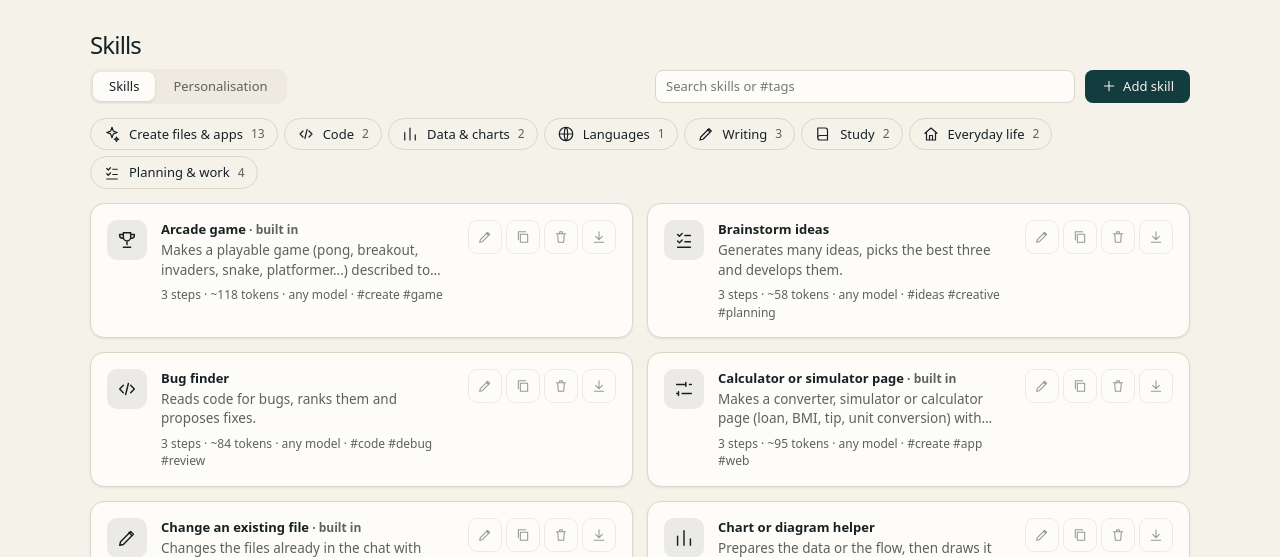
Test: Personalisation says which parts the current model gets › the folded parts open from the keyboard
Click the tab "Personalisation": x=220, y=86 [157, 72, 284, 101]
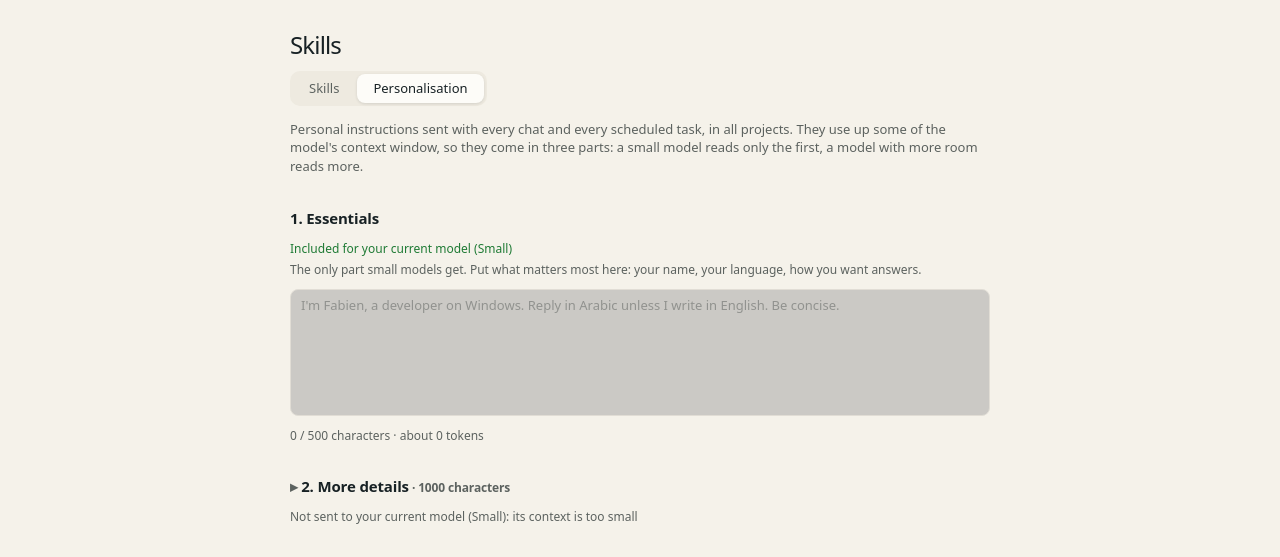
Click the button "▸ 2. More details · 1000 characters": x=400, y=487 [290, 476, 510, 498]
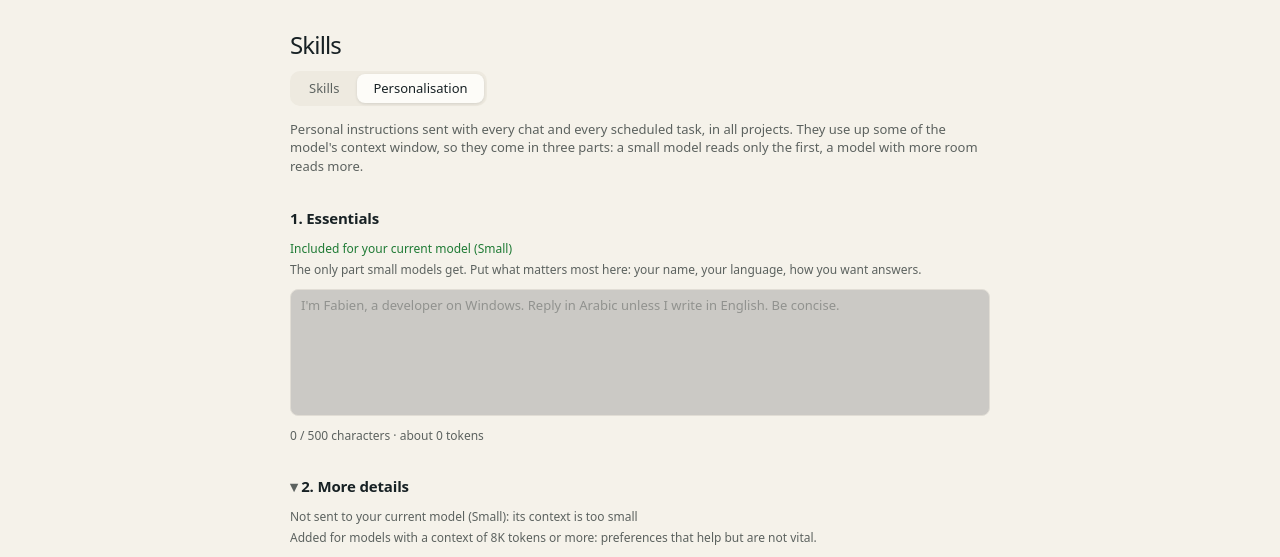
Result: the text "Included for your current model (Small)" is shown at [290, 240, 512, 257]
Result: the button "▾ 2. More details" is expanded at [290, 476, 409, 498]
